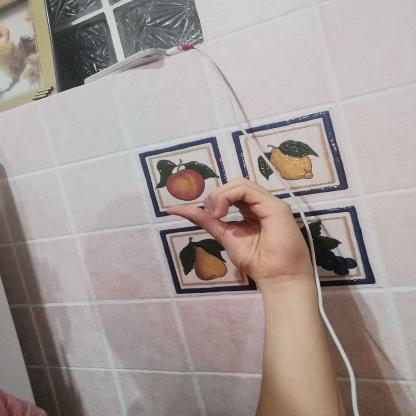WAW: (151, 167, 323, 291)
